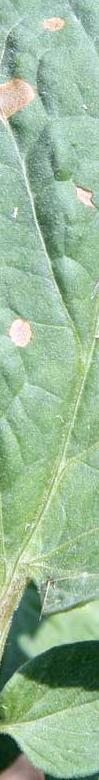Tomato leaf bacterial spot: (0, 0, 99, 718)
